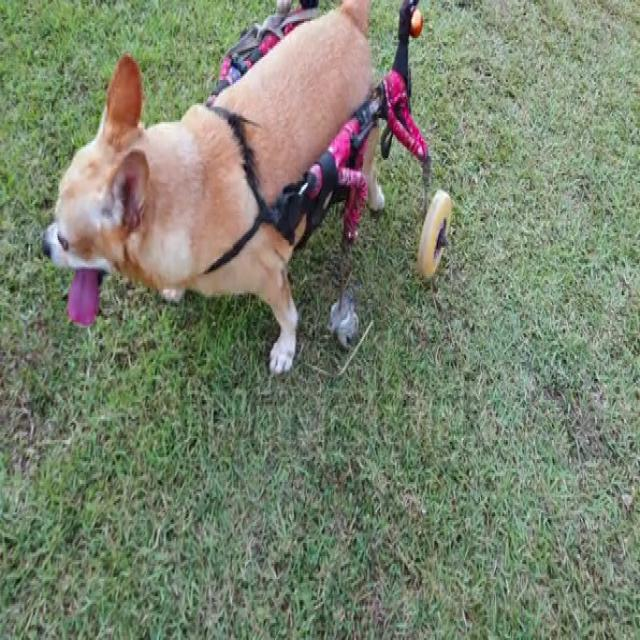injured-animals: (39, 2, 453, 381)
